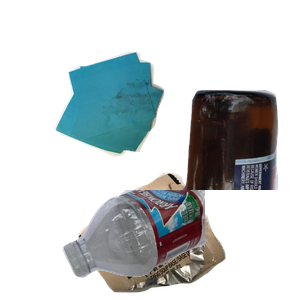glass: (87, 87, 300, 267)
paper: (52, 49, 209, 198)
plastic: (60, 190, 300, 280)
trash: (76, 170, 300, 300)
